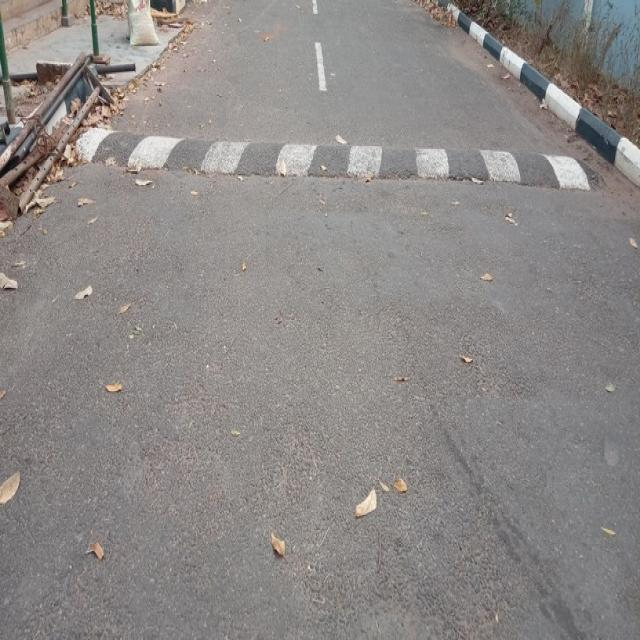speedbreaker: (124, 109, 611, 212)
